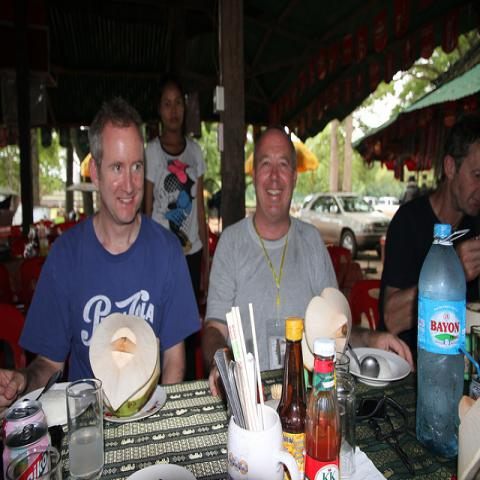car: (298, 191, 392, 255), (364, 197, 400, 217), (377, 197, 402, 204)
